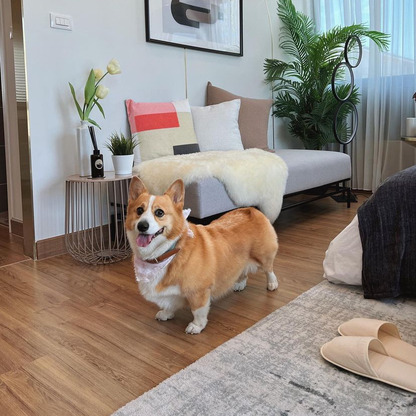Corgi: (120, 163, 297, 335)
